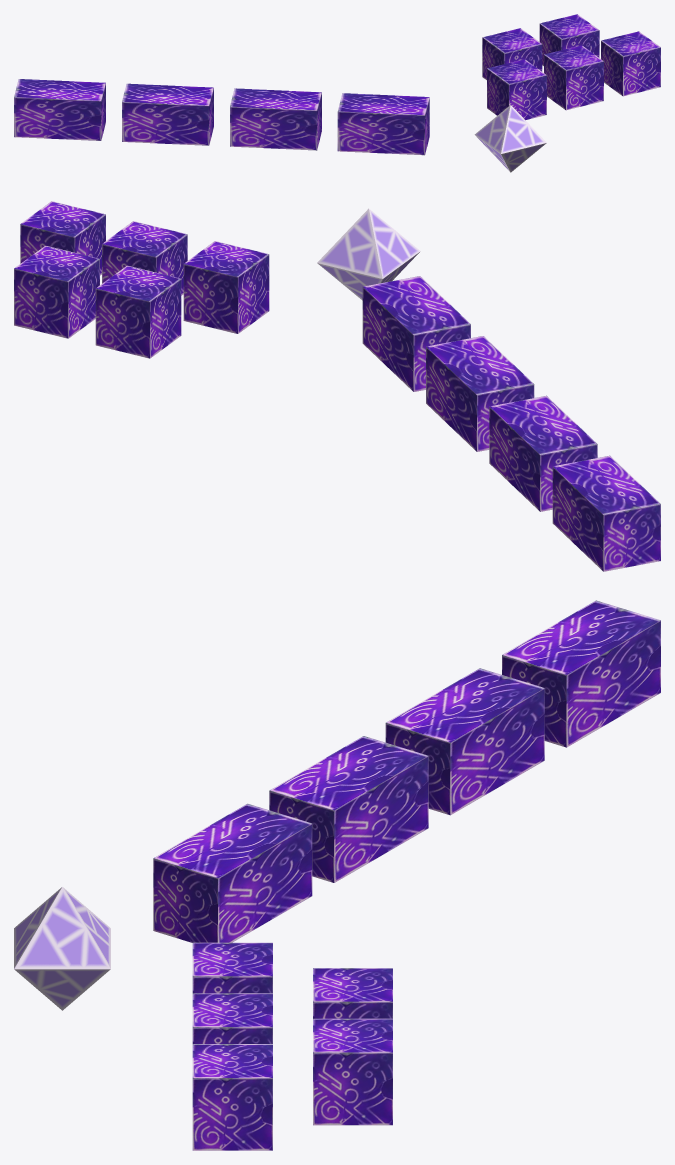
File: jiandao.fbx
3 views of the same model, one above another, from view 1: azimuth 30°, elevation 25°; view 2: azimuth 150°, elevation 25°; view 3: azimuth 270°, elevation 25° (orthographic). The views are drawn at different scales.
Parts seen in each view (by area): view 1: 立方体.006, 立方体.007, 立方体.008, 立方体.009, 立方体.003, 立方体.004, 立方体.005, Cube, 立方体.001, 立方体.002; view 2: 立方体.008, 立方体.009, 立方体.007, 立方体.006, 立方体.001, 立方体.005, 立方体.002, Cube, 立方体.003, 立方体.004; view 3: 立方体.006, 立方体.007, 立方体.009, 立方体.008, 立方体.004, 立方体.002, Cube, 立方体.005, 立方体.003, 立方体.001.
Boxes of the visible parts, box(x1,y1,x2,y2) form: 立方体.006: box(337, 93, 429, 155); 立方体.007: box(230, 88, 321, 150); 立方体.008: box(14, 79, 105, 140); 立方体.009: box(122, 83, 213, 145); 立方体.003: box(544, 45, 603, 110); 立方体.004: box(601, 31, 660, 96); 立方体.005: box(487, 59, 546, 120); Cube: box(474, 105, 546, 172); 立方体.001: box(482, 28, 542, 79); 立方体.002: box(539, 14, 599, 65); 立方体.008: box(552, 455, 660, 571); 立方体.009: box(489, 395, 597, 511); 立方体.007: box(426, 336, 534, 451); 立方体.006: box(362, 276, 470, 391); 立方体.001: box(95, 265, 181, 358); 立方体.005: box(183, 241, 269, 333); 立方体.002: box(14, 245, 99, 338); Cube: box(317, 208, 420, 300); 立方体.003: box(102, 221, 187, 295); 立方体.004: box(20, 201, 105, 275); 立方体.006: box(153, 803, 312, 942); 立方体.007: box(269, 736, 428, 882); 立方体.009: box(385, 668, 544, 815); 立方体.008: box(502, 600, 660, 747); 立方体.004: box(192, 1044, 272, 1150); 立方体.002: box(313, 1018, 392, 1125); Cube: box(14, 887, 110, 1010); 立方体.005: box(192, 942, 272, 993); 立方体.003: box(192, 993, 272, 1043); 立方体.001: box(313, 968, 392, 1018).
Size of the model in its own units: 2821 by 342 by 1615.
10 materials, 10 textured.
